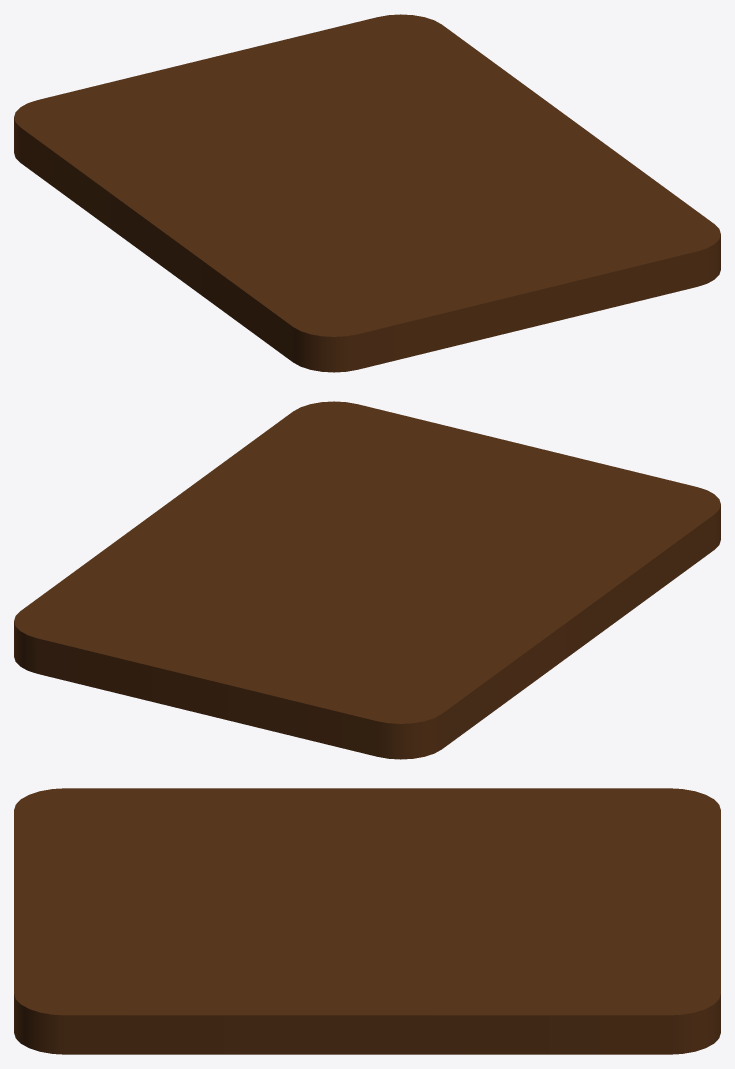
The model's file is CuttingBoard.fbx.
3 renders of one model, top to bottom at view 1: azimuth 30°, elevation 25°; view 2: azimuth 150°, elevation 25°; view 3: azimuth 270°, elevation 25°, orthographic. The views are drawn at different scales.
Parts seen in each view (by area): view 1: CuttingBoard; view 2: CuttingBoard; view 3: CuttingBoard.
Part boxes in pixels (<box>): CuttingBoard: <box>14,14,720,372</box>; CuttingBoard: <box>14,401,720,759</box>; CuttingBoard: <box>14,788,720,1054</box>.
Size of the model in its own units: 0.9489 by 0.0765 by 1.25.
